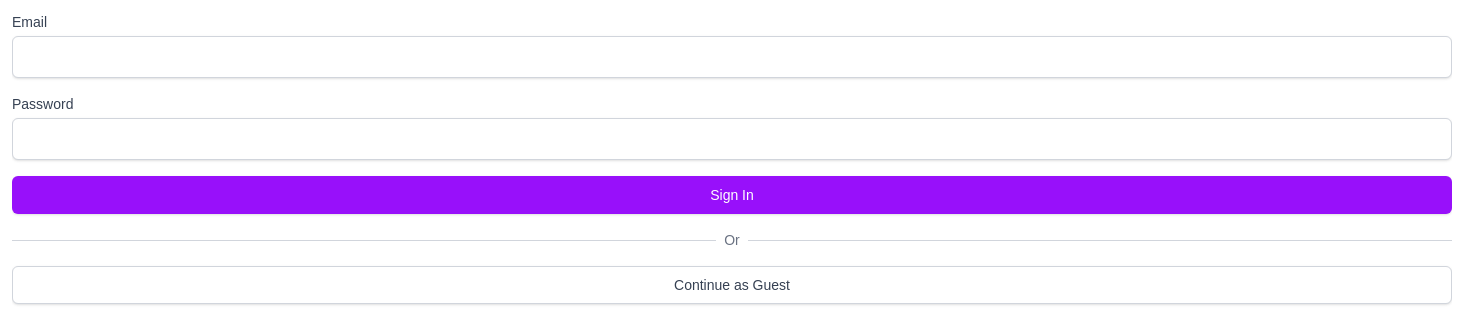
Test: LoginForm › Guest Authentication › should show loading state during guest login
Click the button "Continue as Guest" at coordinates (732, 285), box [12,266,1452,304]
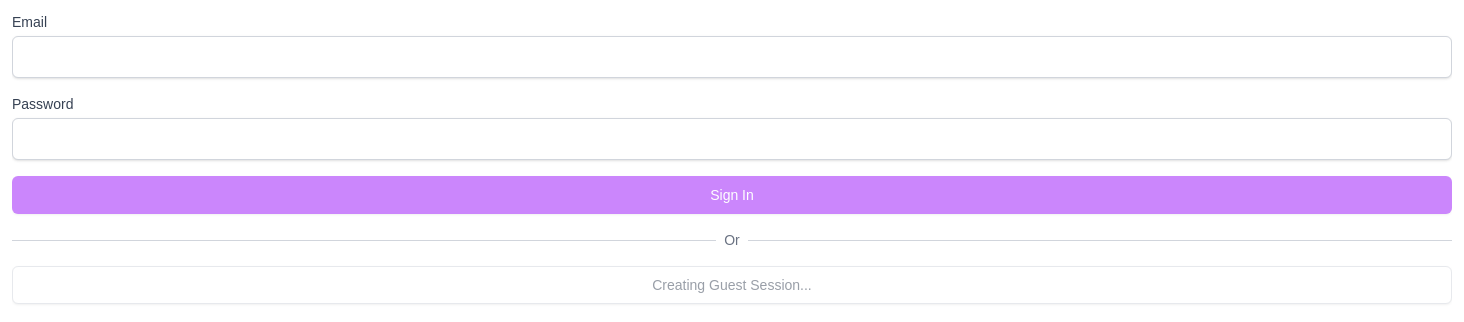
Check: the button "Sign In" is disabled, box [12,176,1452,214]
Check: the button "Creating Guest Session..." is disabled, box [12,266,1452,304]
